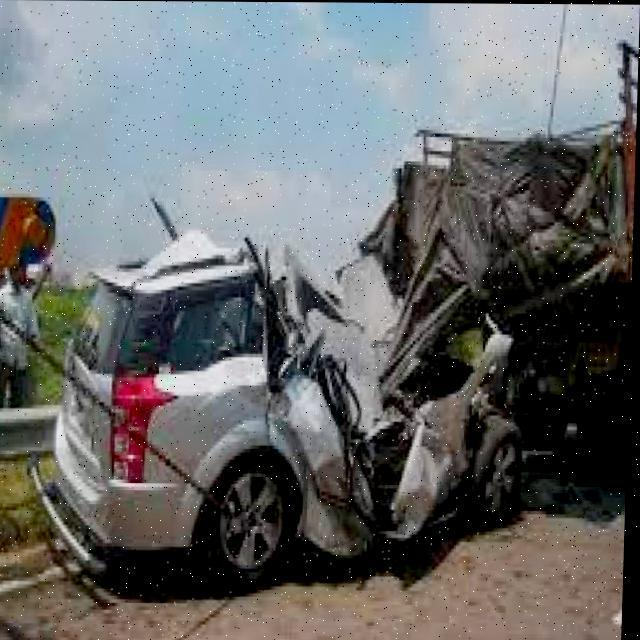multiple_accident: (1, 5, 622, 636)
